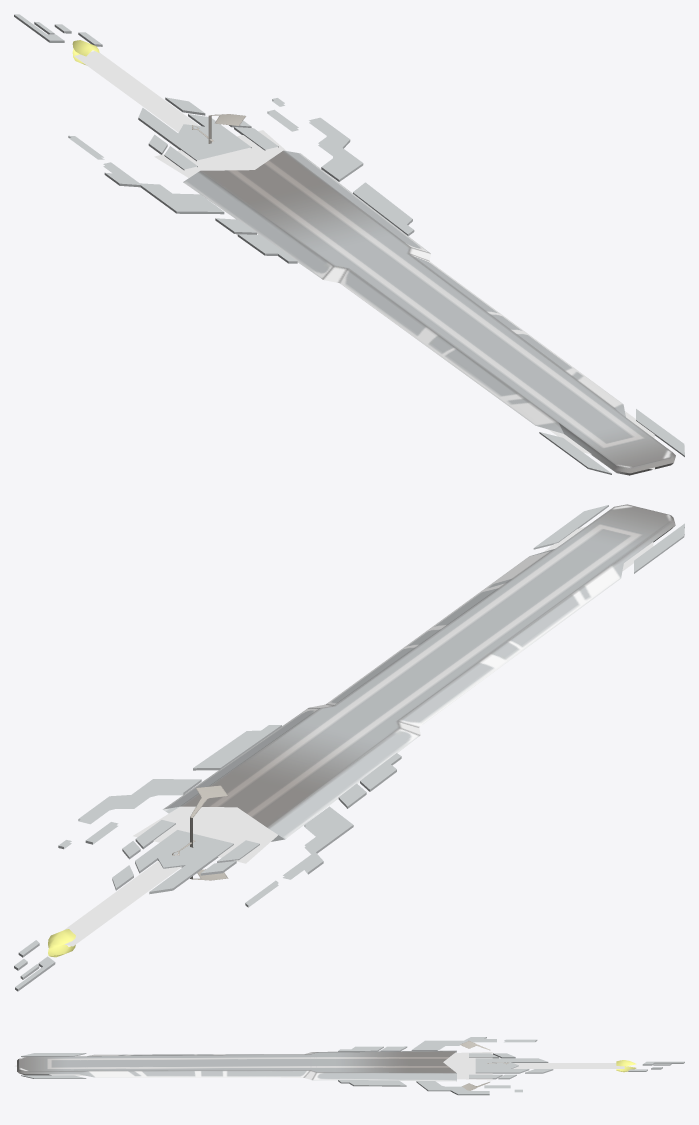
Rendered from Equip_Claymore_Kunwu_Model.fbx.
3 views of the same model, one above another, from view 1: azimuth 30°, elevation 25°; view 2: azimuth 150°, elevation 25°; view 3: azimuth 270°, elevation 25° (orthographic). The views are drawn at different scales.
Parts seen in each view (by area): view 1: Equip_Claymore_Kunwu_Model, Equip_Claymore_EffectMesh; view 2: Equip_Claymore_Kunwu_Model, Equip_Claymore_EffectMesh; view 3: Equip_Claymore_Kunwu_Model, Equip_Claymore_EffectMesh.
Boxes of the visible parts, <box> form: Equip_Claymore_Kunwu_Model: <box>14,14,684,475</box>; Equip_Claymore_EffectMesh: <box>74,51,654,469</box>; Equip_Claymore_Kunwu_Model: <box>14,504,684,991</box>; Equip_Claymore_EffectMesh: <box>64,510,653,946</box>; Equip_Claymore_Kunwu_Model: <box>17,1037,684,1095</box>; Equip_Claymore_EffectMesh: <box>14,1052,624,1080</box>.
Bounding box in the file's own units: 0.4019 × 0.155 × 1.89.
